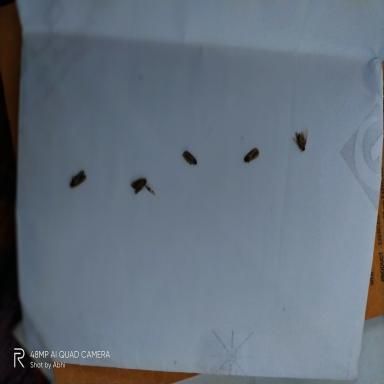pbw: (292, 128, 310, 152), (69, 171, 89, 190), (128, 178, 146, 194), (182, 150, 198, 167), (244, 147, 260, 163)
